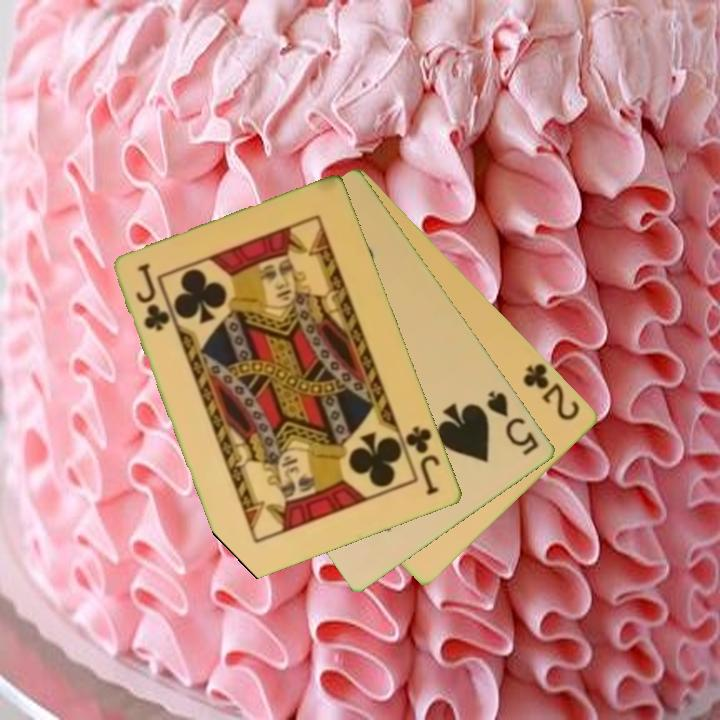2c: (519, 359, 584, 424)
5s: (483, 387, 543, 459)
Jc: (402, 422, 443, 498), (133, 260, 173, 334)
